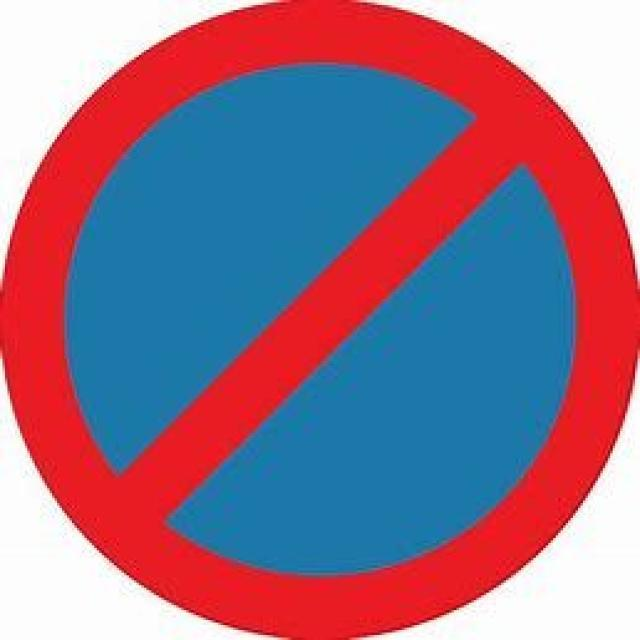no parking: (16, 13, 620, 627)
